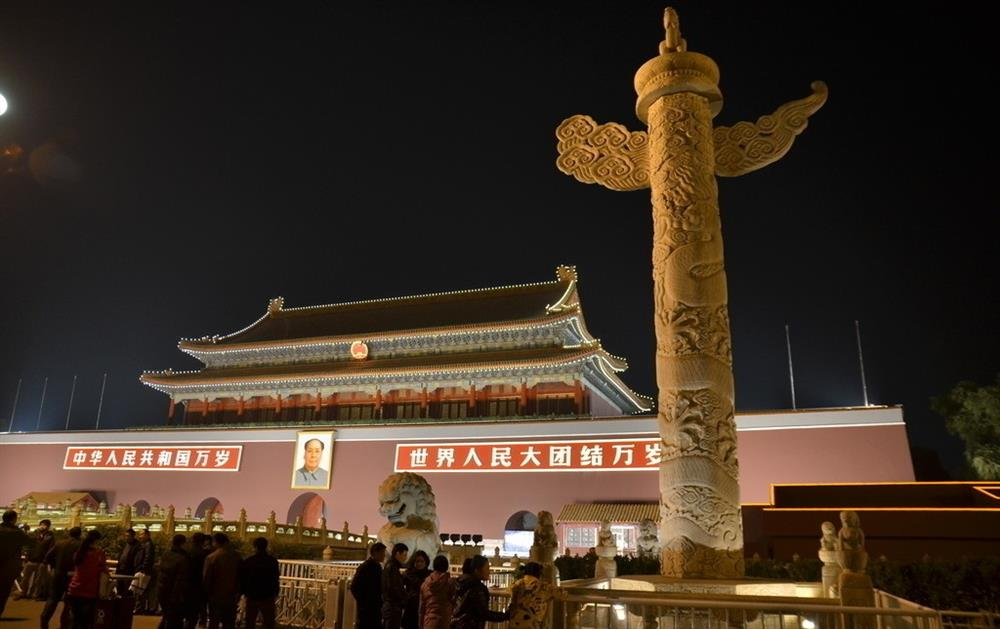Tiananmen: (2, 264, 927, 534)
